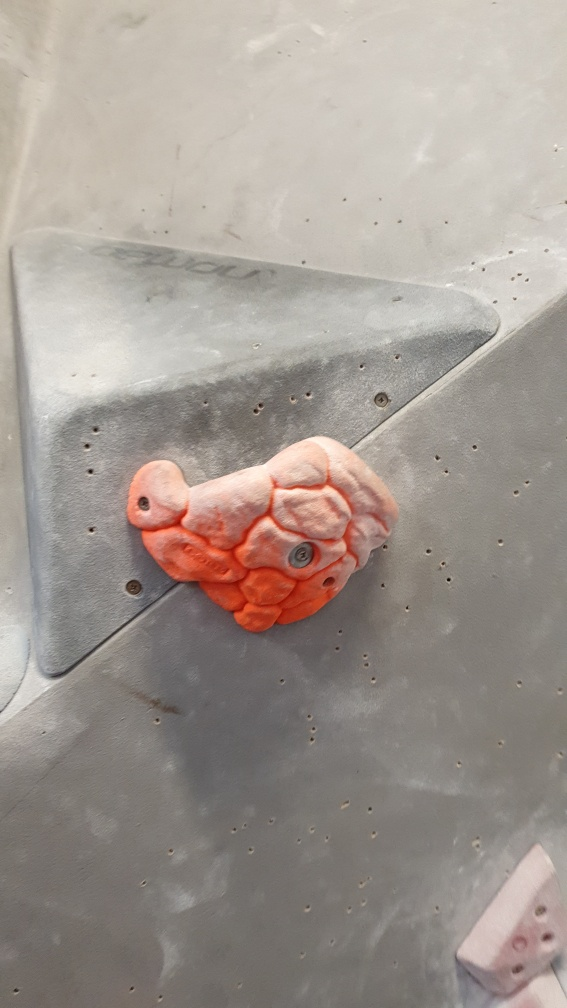Jug: (126, 433, 402, 637)
